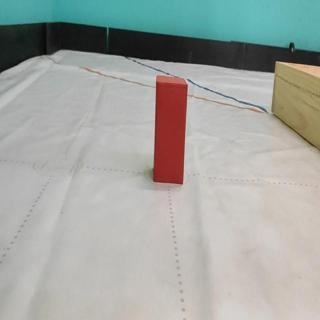redbox: (153, 75, 188, 185)
